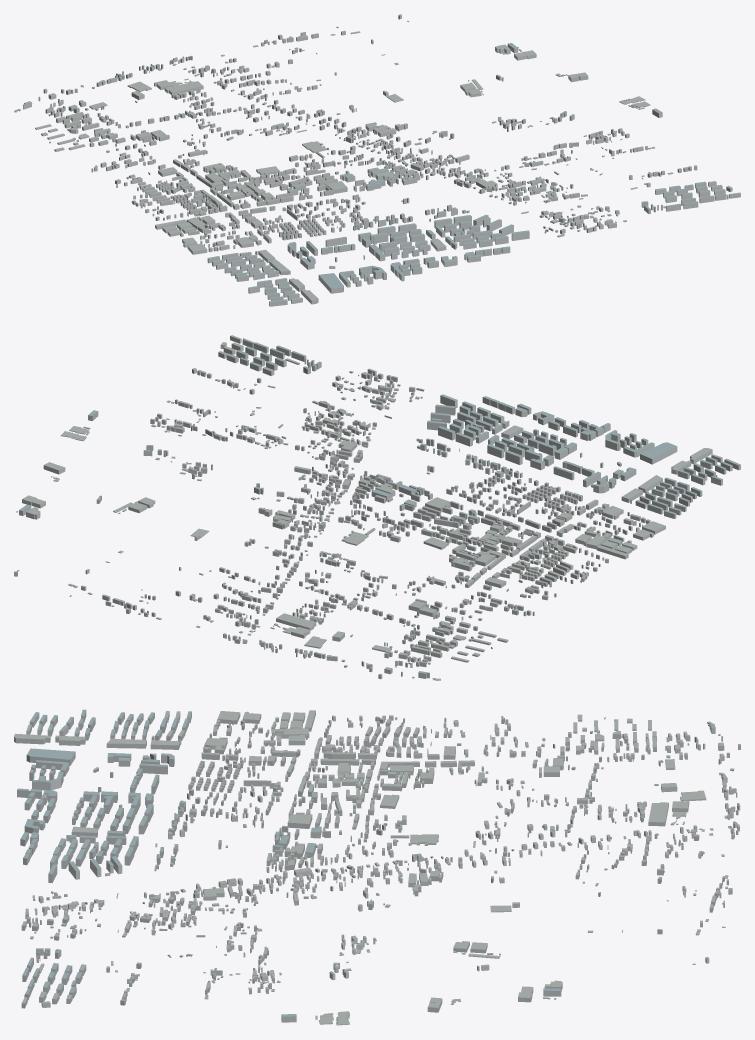
The model's file is far.glb.
3 renders of one model, top to bottom at view 1: azimuth 30°, elevation 25°; view 2: azimuth 150°, elevation 25°; view 3: azimuth 270°, elevation 25°, orthographic. The views are drawn at different scales.
Size of the model in its own units: 2156 by 30.4 by 2127.
